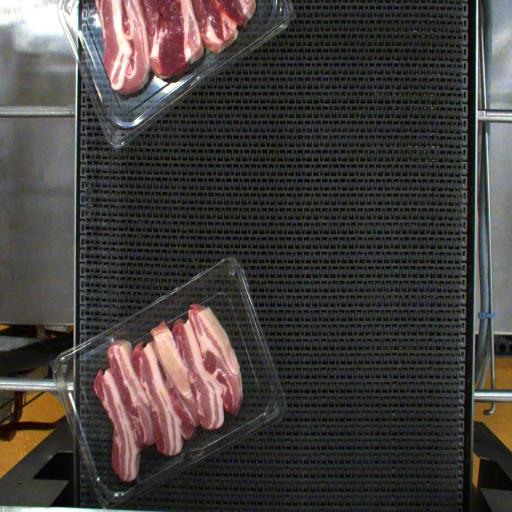twisted-meat: (149, 308, 199, 424)
